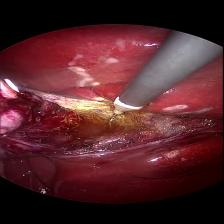Hook: (102, 94, 148, 124)
